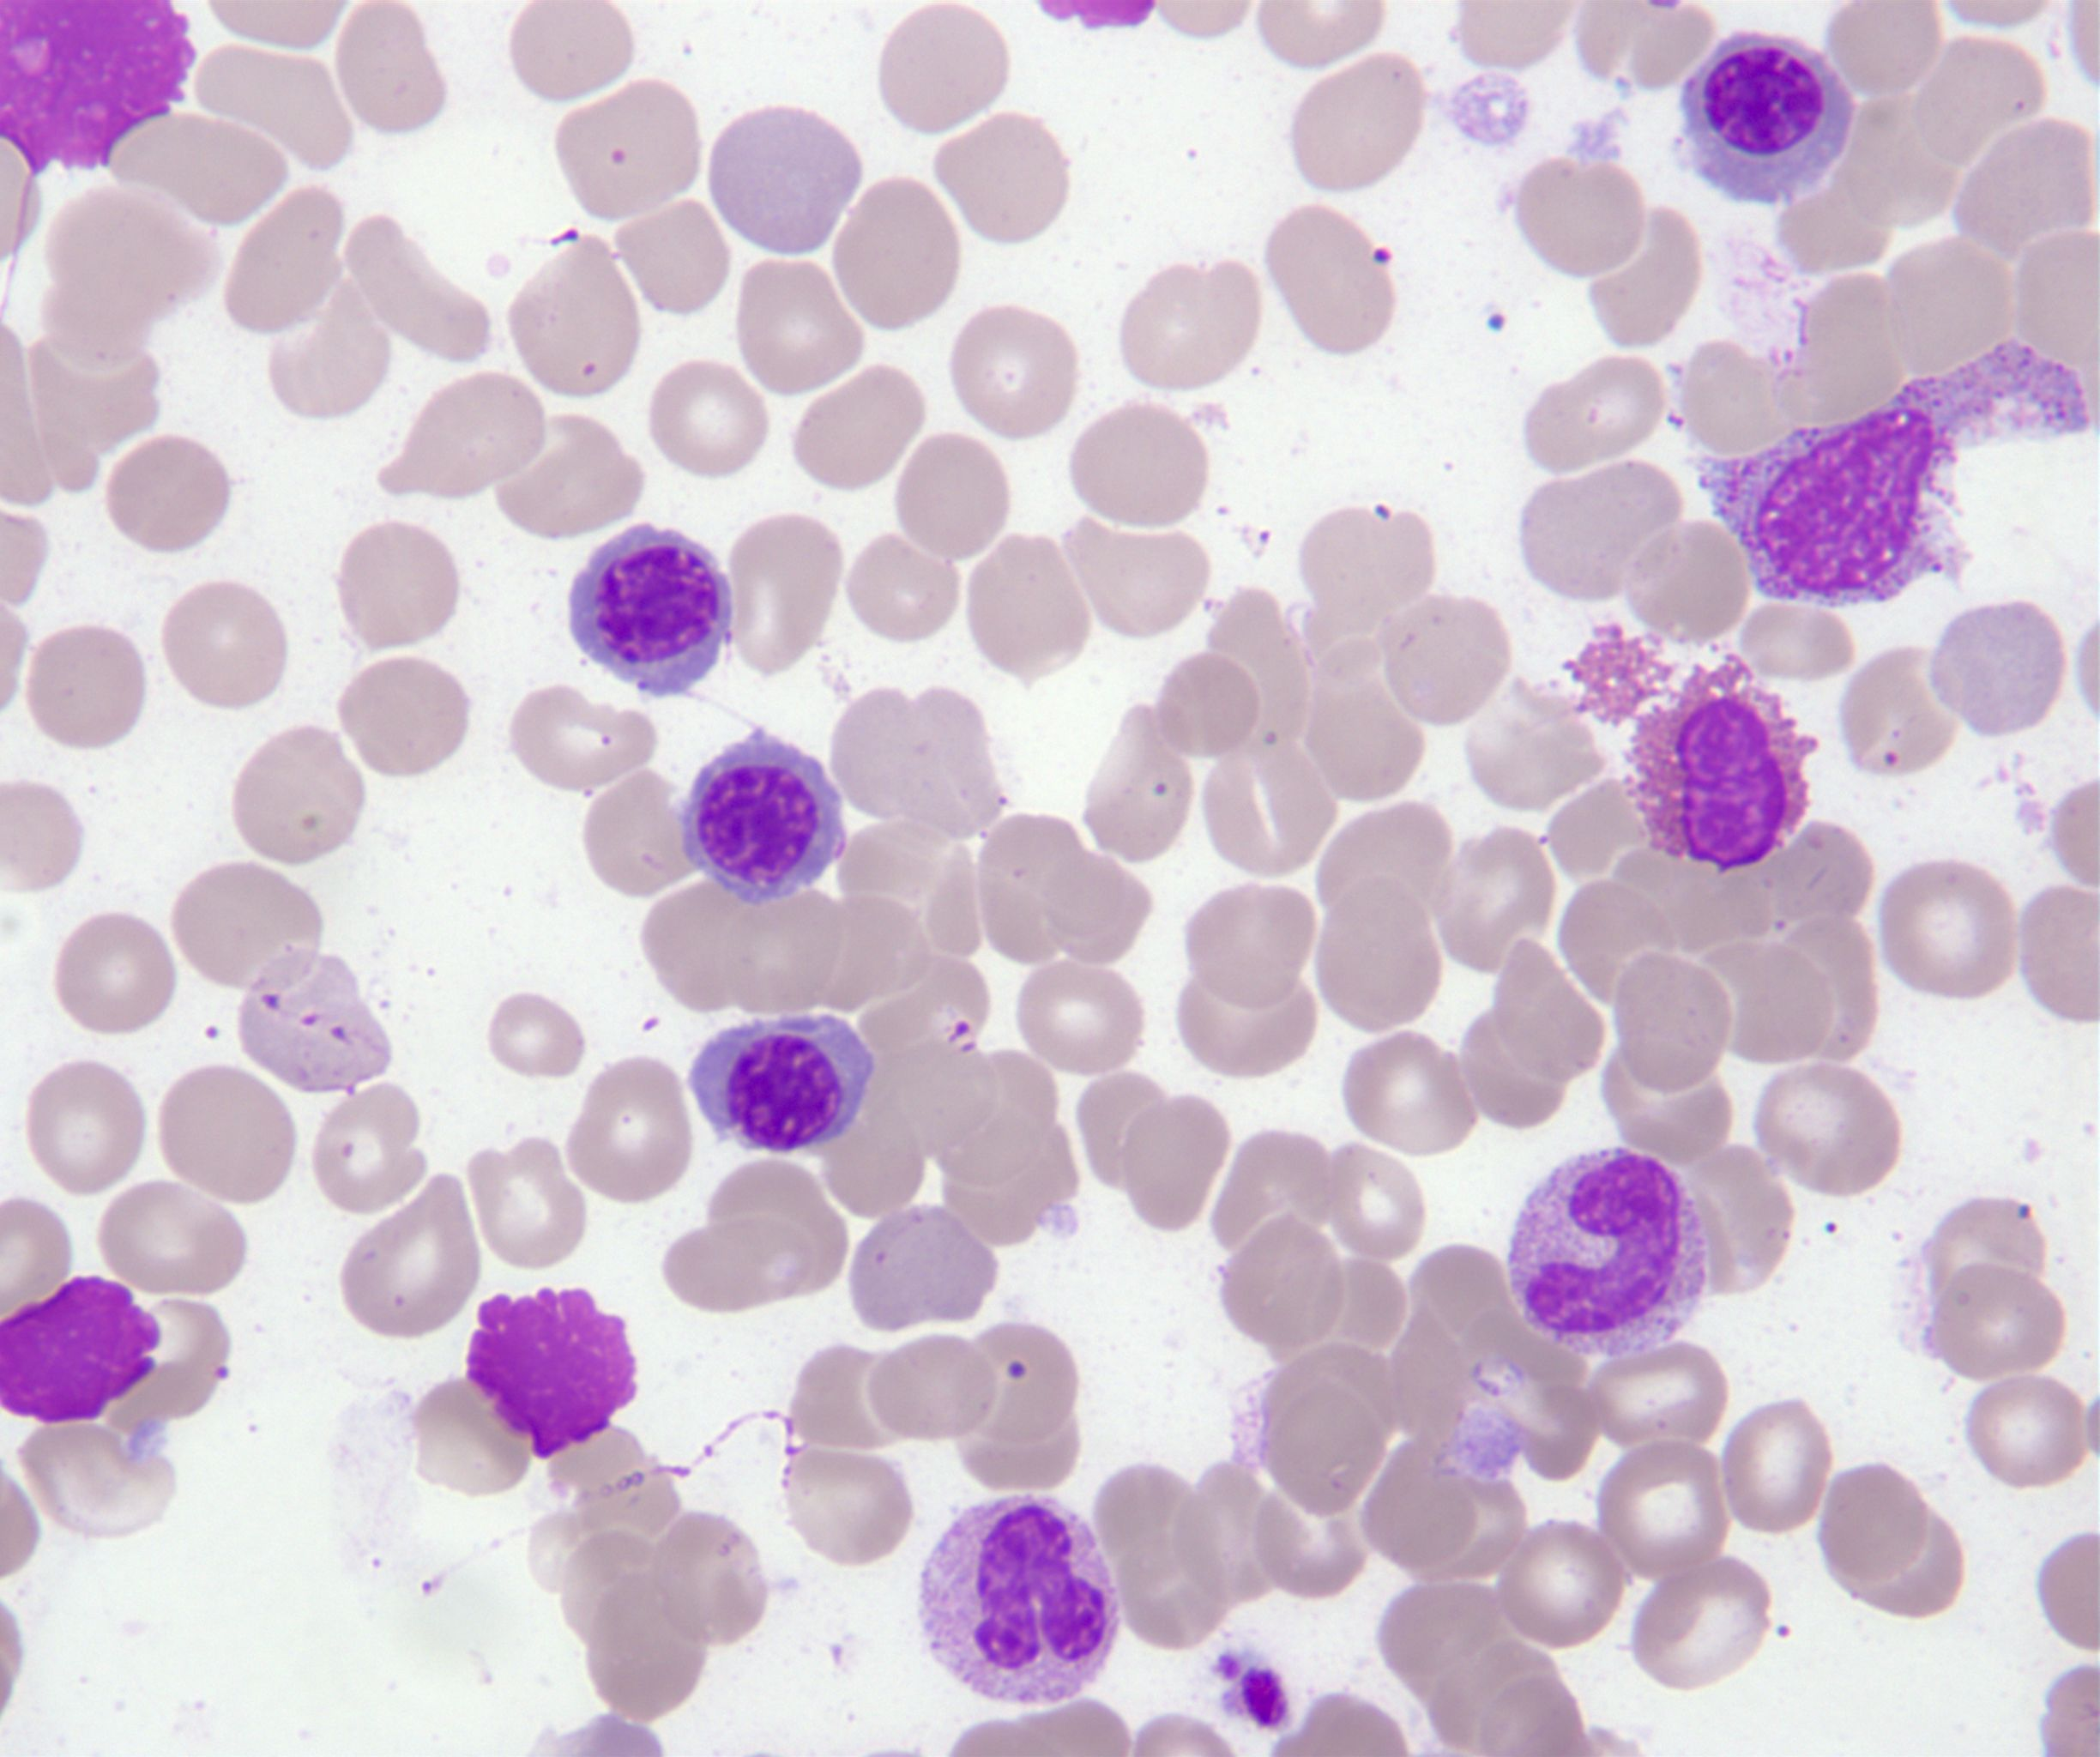24: (1683, 31, 1854, 206), (682, 728, 844, 904), (570, 523, 729, 693), (689, 1017, 872, 1152)
5: (921, 1497, 1118, 1705), (1507, 1150, 1704, 1356)
x: (1704, 340, 2090, 607), (1566, 625, 1817, 864), (0, 2, 194, 176), (467, 1289, 633, 1457), (0, 1275, 157, 1424)
